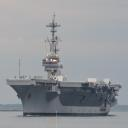Portanaves: (7, 12, 123, 119)
